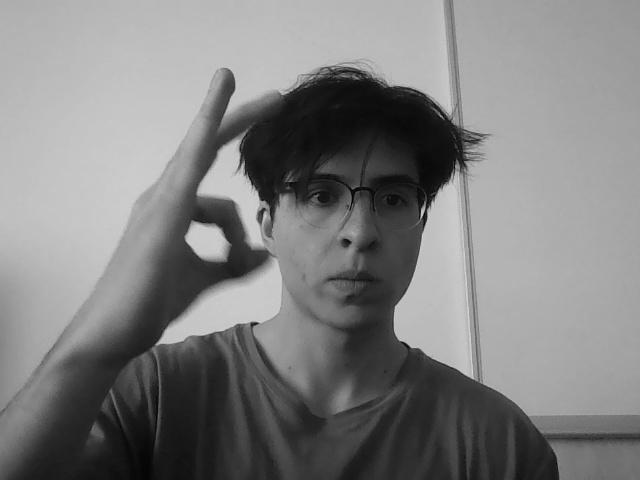OK: (42, 77, 294, 329)
